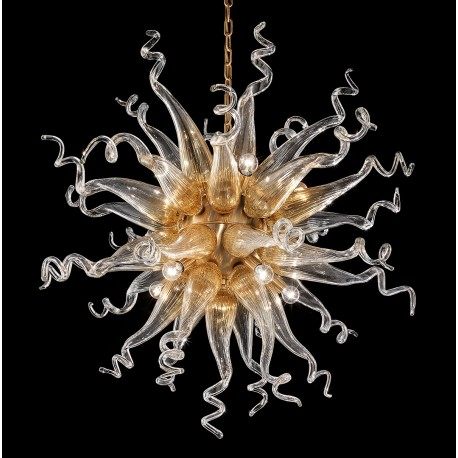chandelier: (20, 1, 431, 446)
